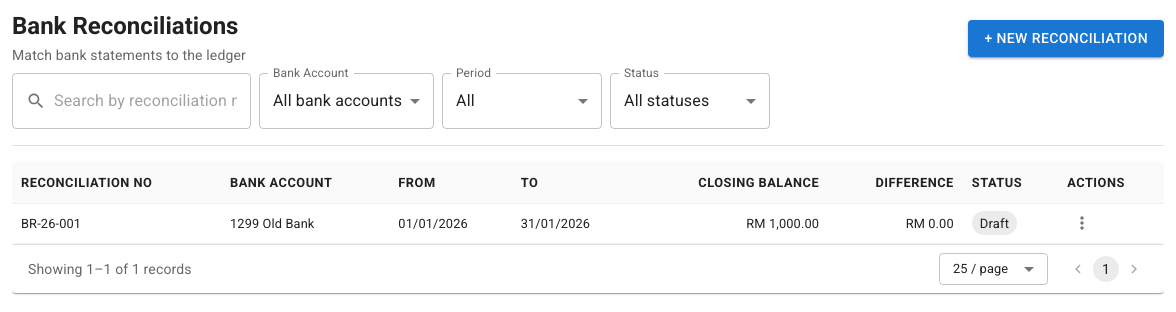
Test: BankReconciliationsPage › keeps a reconciliation of an inactive bank account visible and filterable
Expected: the text "1299 Old Bank" is shown, [230,216,314,231]
What coordinates should you click on to do the following:
click the dropdown labelled "bank account"
I would click on:
 (338, 101)
Its box is [273,91,402,110].
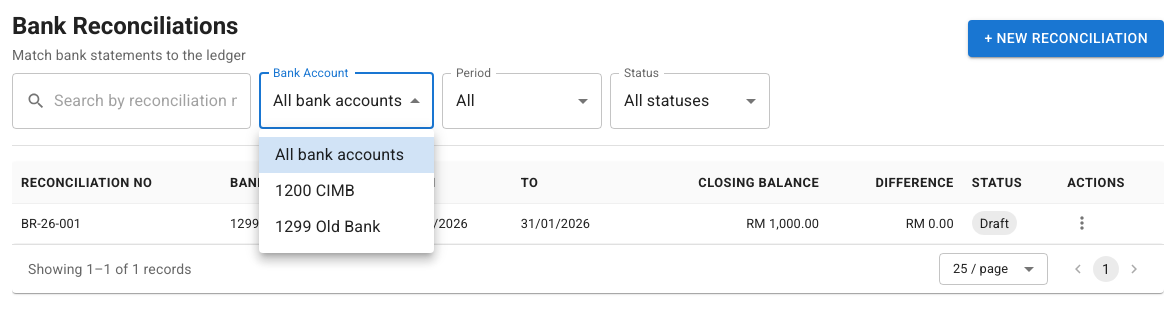
Expected: the text "1299 Old Bank" is shown, [230,216,314,231]
Result: the option "1200 CIMB" is shown at [275,181,355,200]
